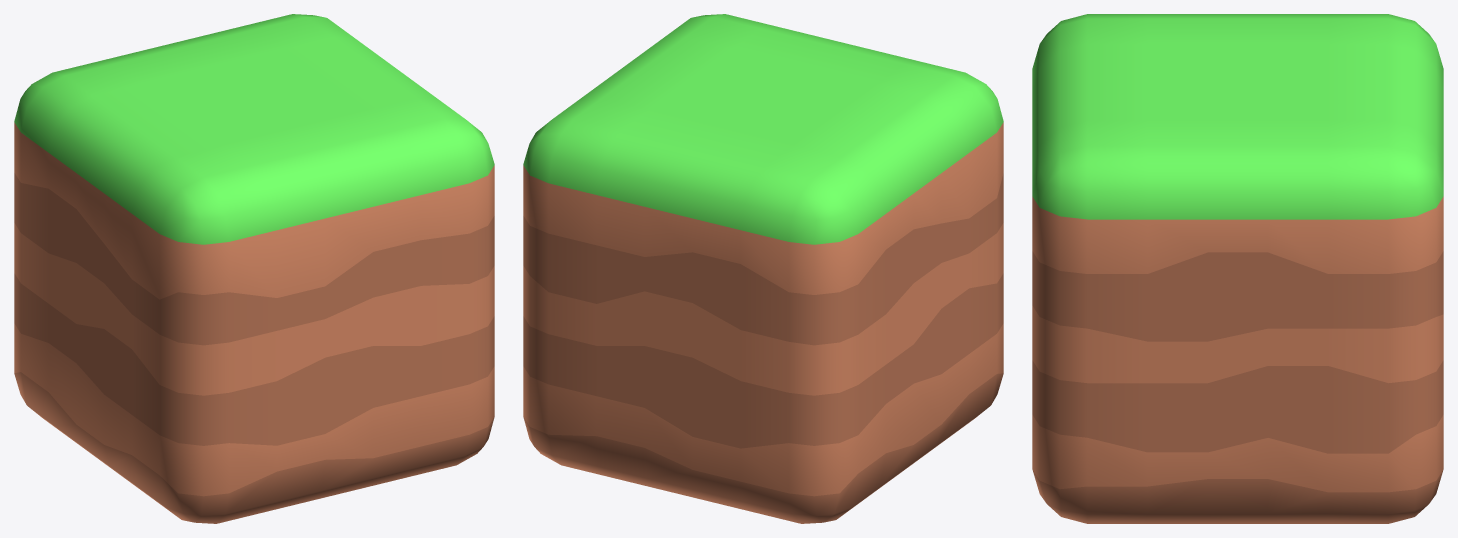
Rendered from Stone023.fbx.
3 renders of one model, left to right at view 1: azimuth 30°, elevation 25°; view 2: azimuth 150°, elevation 25°; view 3: azimuth 270°, elevation 25°, orthographic. The views are drawn at different scales.
Visible parts, largest first — view 1: Stone023; view 2: Stone023; view 3: Stone023.
Part boxes in pixels (<box>): Stone023: <box>14,14,494,523</box>; Stone023: <box>523,14,1003,523</box>; Stone023: <box>1032,14,1443,523</box>.
Size of the model in its own units: 156 by 156 by 156.
